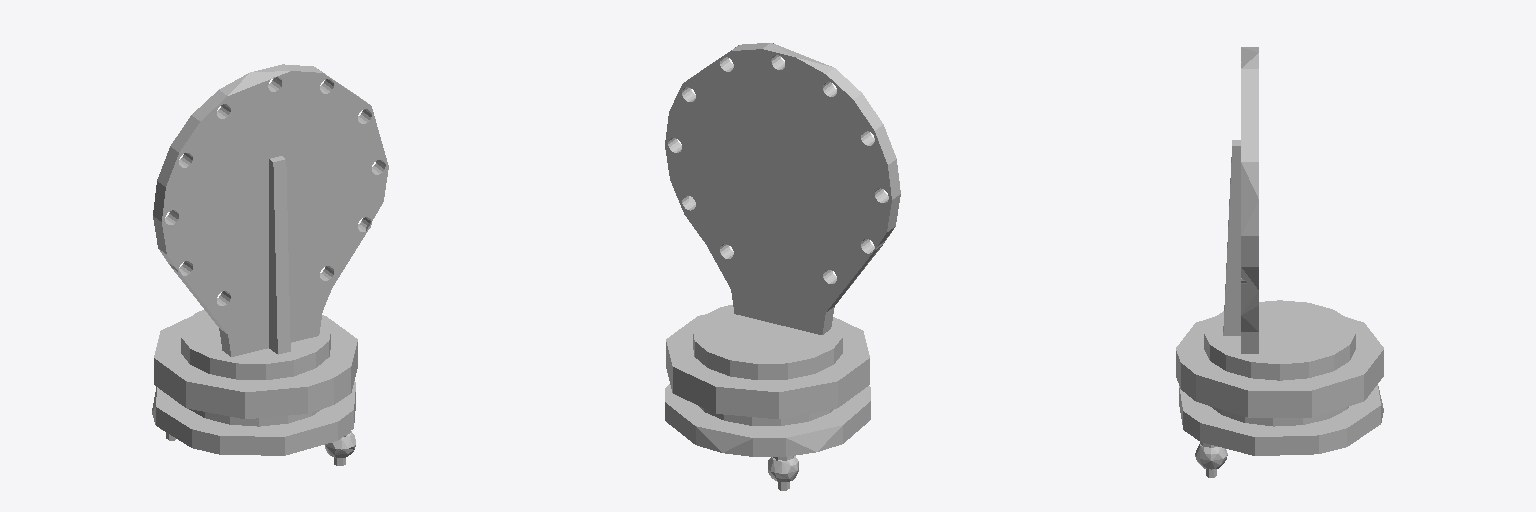
Rendered from legr_hip2_joint.obj.
The picture shows the model from 3 angles: view 1: azimuth 30°, elevation 25°; view 2: azimuth 150°, elevation 25°; view 3: azimuth 270°, elevation 25°; orthographic projection.
Size of the model in its own units: 0.088 by 0.1445 by 0.07.